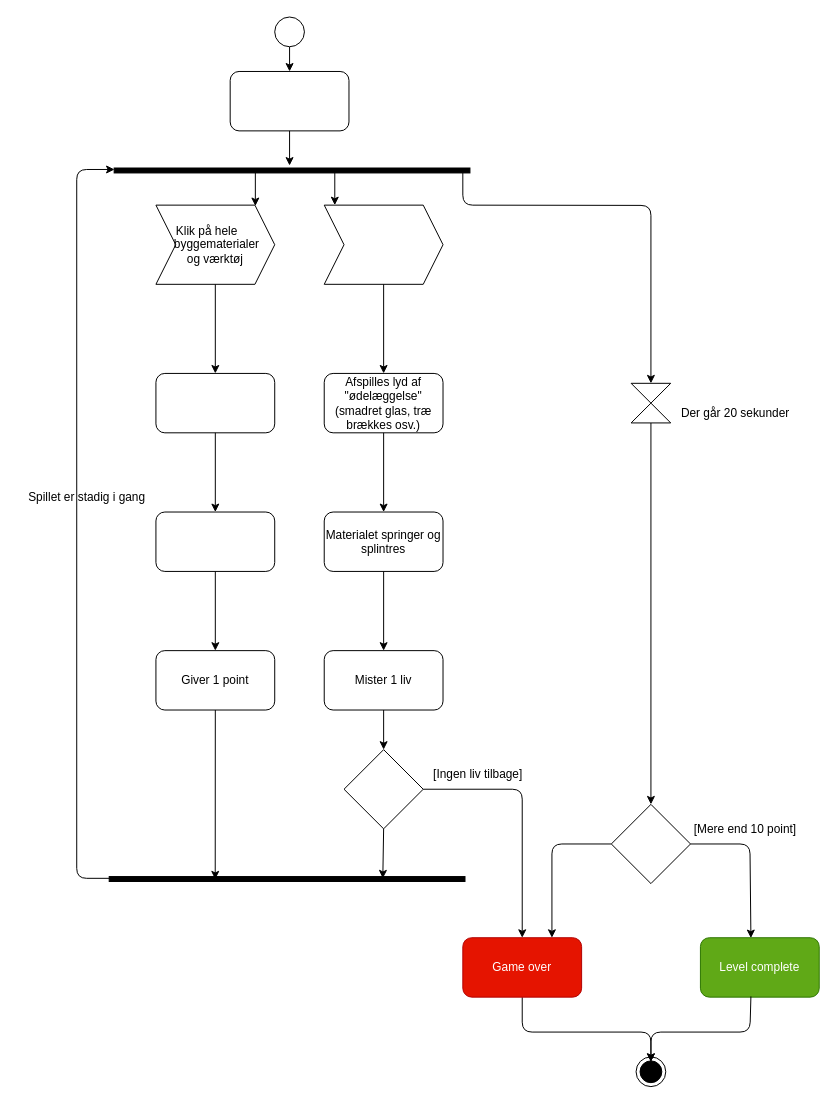
This 837x1105 diagram has some shape labels left out. Here are the shapes that lost their labels. From the top down, the centre of each, then its label:
At [289,100]: "Byggematerialer falder ned".
At [383,244]: "Klik på ødelagte byggematerialer".
At [215,402]: "Afspilles byggelyd (hamren, boren osv.)".
At [215,541]: "Materialet faider ud".
